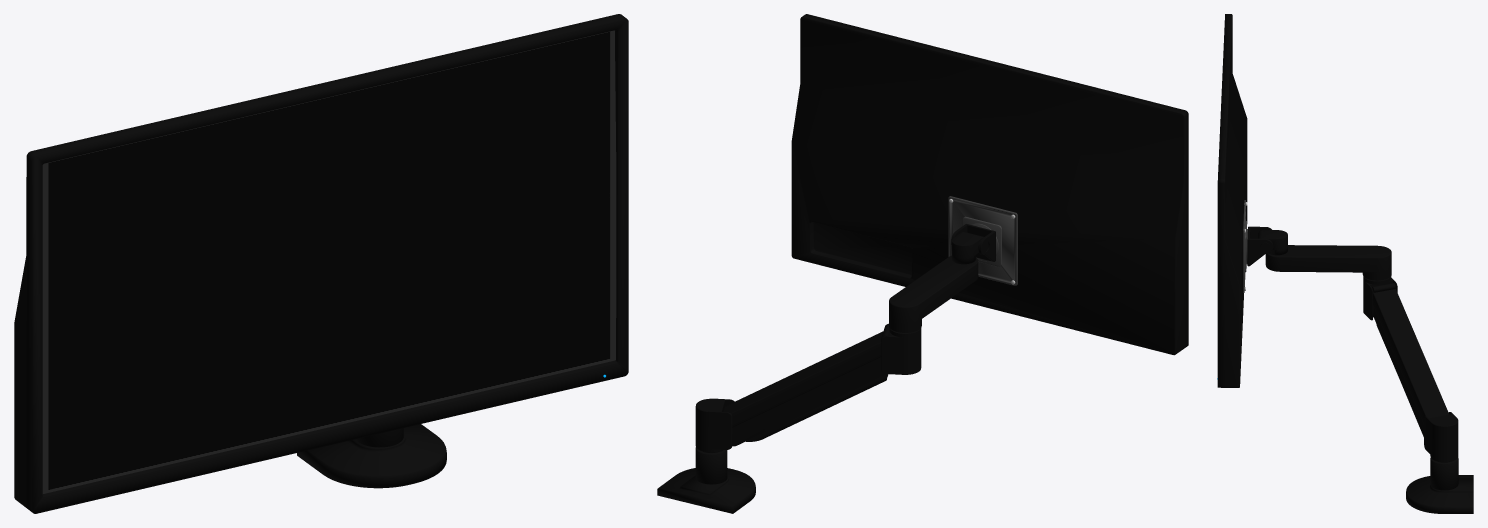
The model's file is 27-inch-monitor-with-movable-mount.gltf.
The picture shows the model from 3 angles, left to right: view 1: azimuth 30°, elevation 25°; view 2: azimuth 150°, elevation 25°; view 3: azimuth 270°, elevation 25°; orthographic projection. The views are drawn at different scales.
Parts seen in each view (by area): view 1: monitor-27in-zg-frame, monitorMount-zg-base; view 2: monitor-27in-zg-frame, monitorMount-zg-arm_1, monitorMount-zg-base, monitorMount-zg-arm_2, monitorMount-zg-piv_5, monitorMount-zg-piv_1, monitorMount-zg-piv_2, monitorMount-zg-piv_3, monitorMount-zg-piv_4; view 3: monitor-27in-zg-frame, monitorMount-zg-arm_1, monitorMount-zg-arm_2, monitorMount-zg-base, monitorMount-zg-piv_1, monitorMount-zg-piv_4, monitorMount-zg-piv_2, monitorMount-zg-piv_3, monitorMount-zg-piv_5.
Part boxes in pixels (x1,y1,x2,y2): monitor-27in-zg-frame: (14,14,628,513); monitorMount-zg-base: (297,424,446,488); monitor-27in-zg-frame: (791,14,1188,355); monitorMount-zg-arm_1: (723,324,891,446); monitorMount-zg-base: (657,447,755,513); monitorMount-zg-arm_2: (889,255,978,332); monitorMount-zg-piv_5: (948,196,1017,285); monitorMount-zg-piv_1: (695,398,734,452); monitorMount-zg-piv_2: (881,323,921,374); monitorMount-zg-piv_3: (951,231,983,264); monitorMount-zg-piv_4: (951,224,995,261); monitor-27in-zg-frame: (1217,14,1247,387); monitorMount-zg-arm_1: (1372,283,1449,436); monitorMount-zg-arm_2: (1265,245,1391,280); monitorMount-zg-base: (1406,457,1473,513); monitorMount-zg-piv_1: (1424,412,1458,462); monitorMount-zg-piv_4: (1247,226,1273,266); monitorMount-zg-piv_2: (1363,276,1397,320); monitorMount-zg-piv_3: (1258,230,1287,255); monitorMount-zg-piv_5: (1243,200,1247,292).
Bounding box in the file's own units: 0.6232 × 0.574 × 0.4004.
5 materials, 1 textured.
